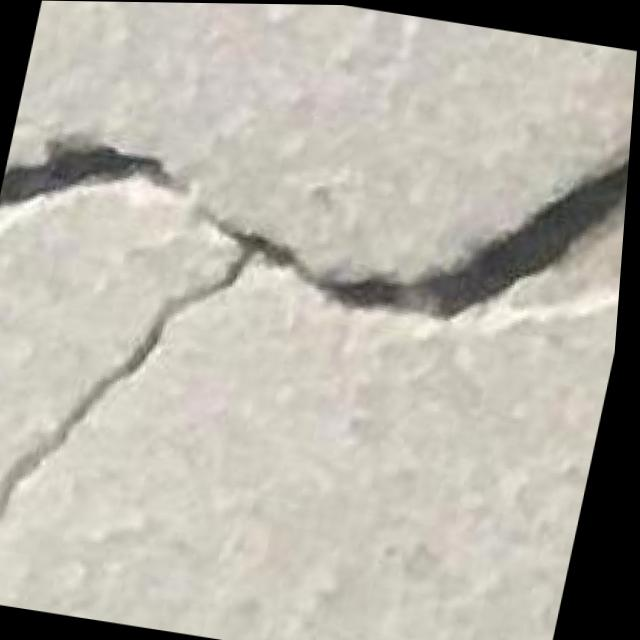Crack: (0, 98, 278, 631), (234, 49, 637, 394)
